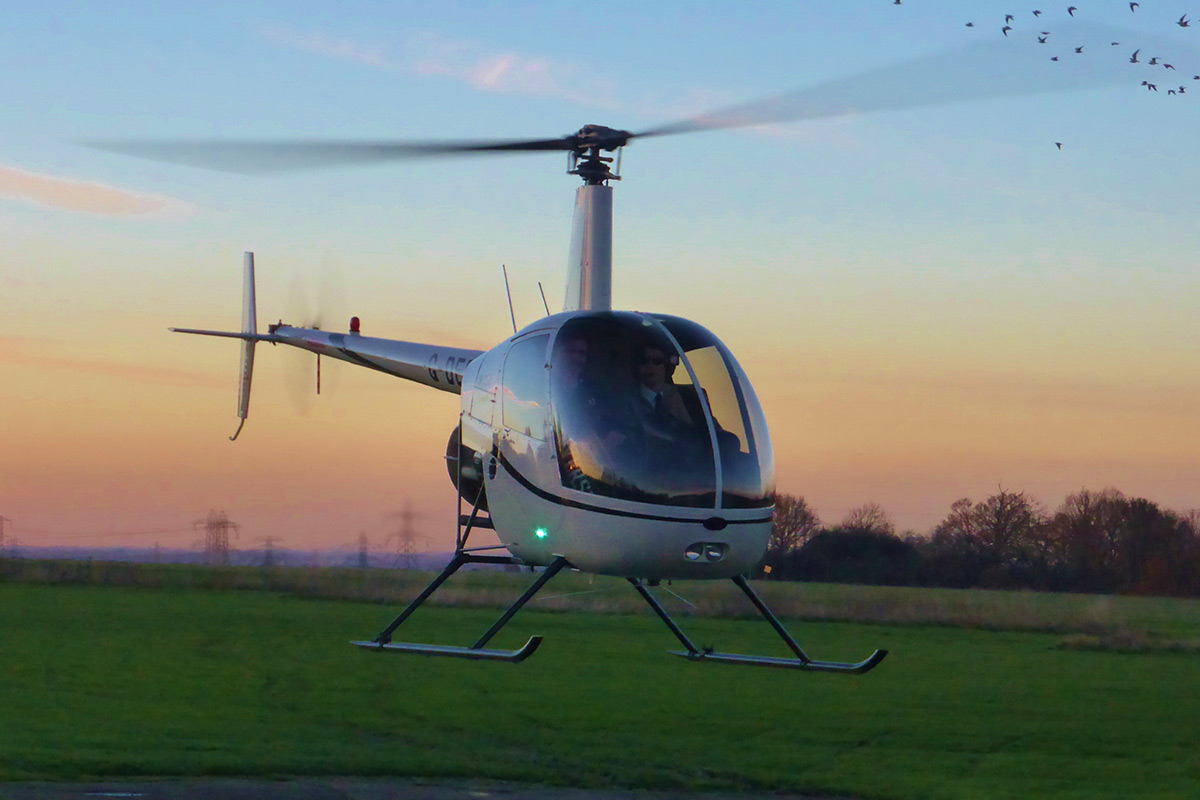Helicopter: (178, 107, 896, 685)
